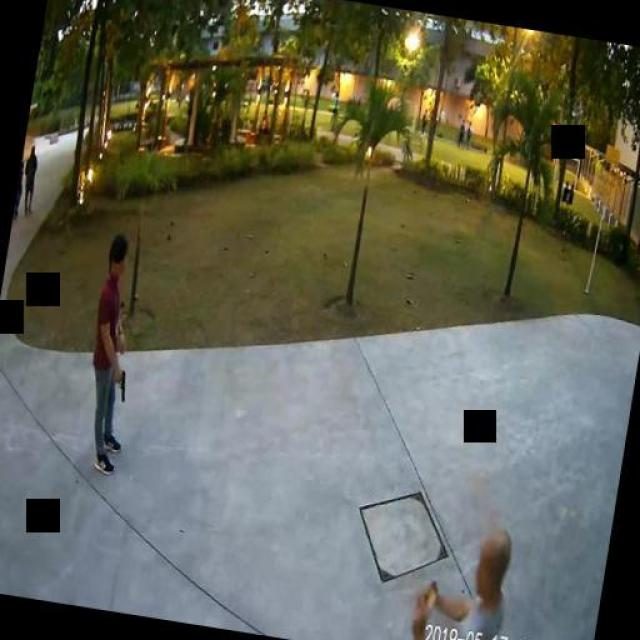gun: (109, 366, 128, 399)
